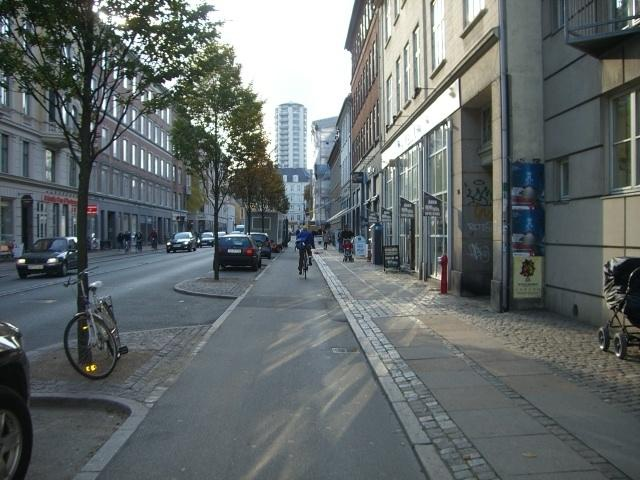non-vehicle: (63, 265, 128, 379), (299, 248, 311, 279)
